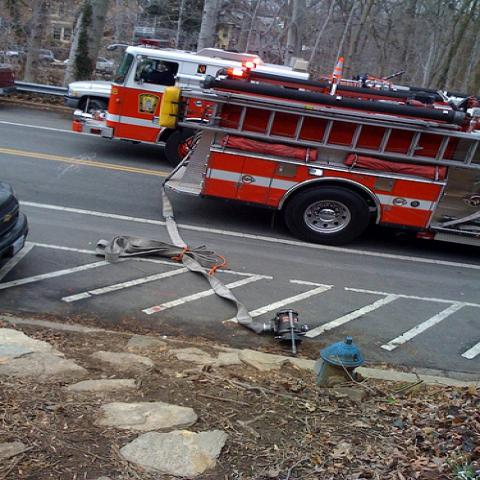car: (0, 55, 114, 263)
truck: (156, 66, 479, 251), (93, 46, 310, 152)
